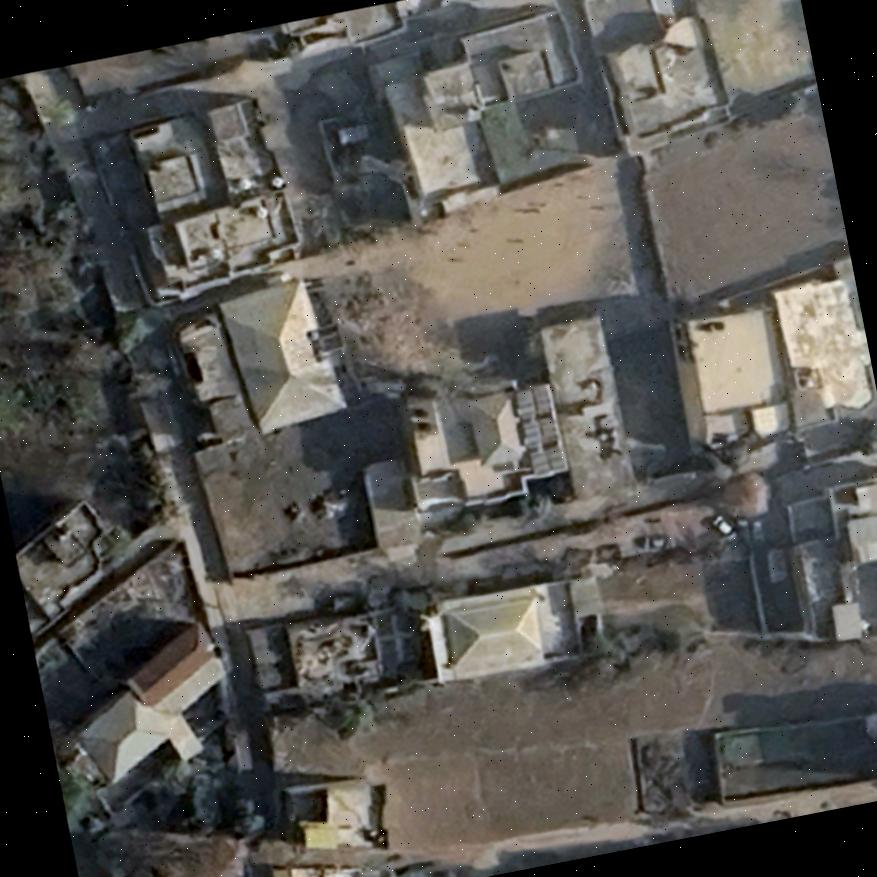Solarpanel: (509, 380, 554, 421), (516, 411, 558, 447), (524, 440, 566, 476)
